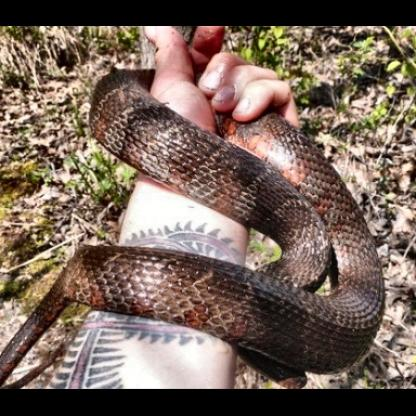Snake: (18, 69, 386, 380)
